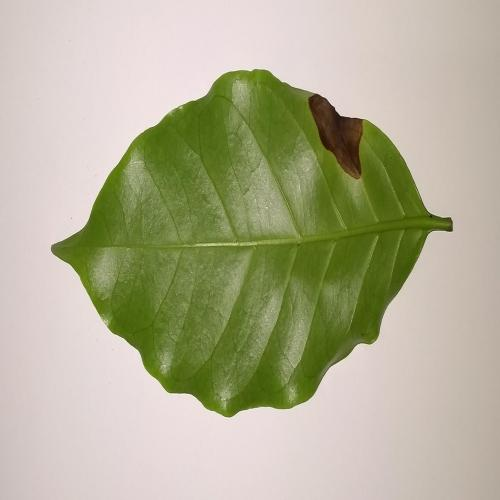miner: (309, 94, 363, 179)
